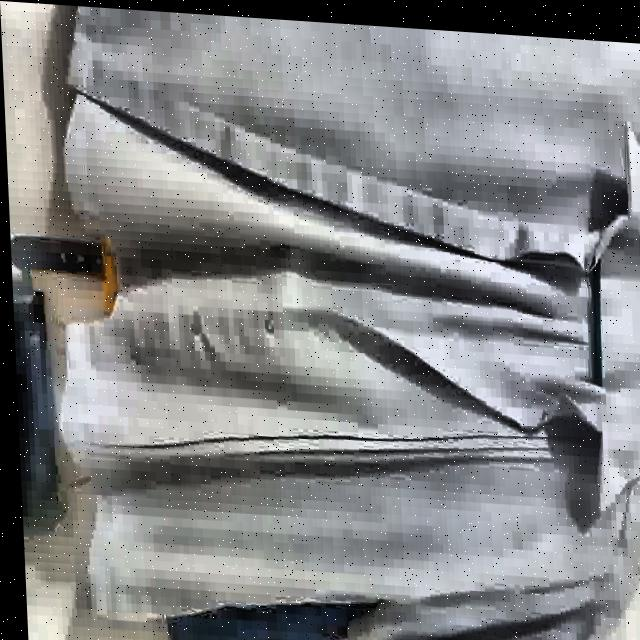clothes: (36, 2, 640, 640)
